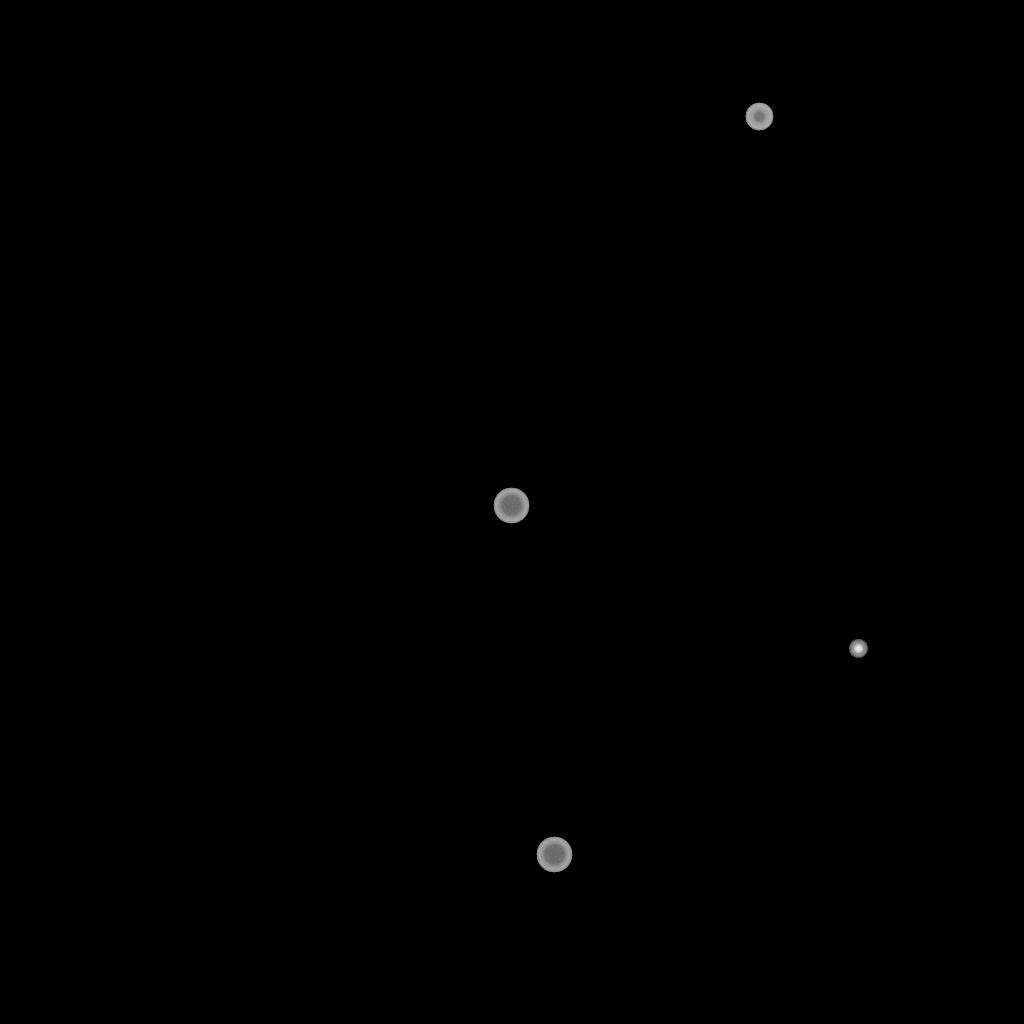depth:-20: (849, 640, 867, 658)
depth:-50: (745, 103, 773, 131)
depth:-60: (536, 837, 572, 873), (493, 488, 529, 524)
